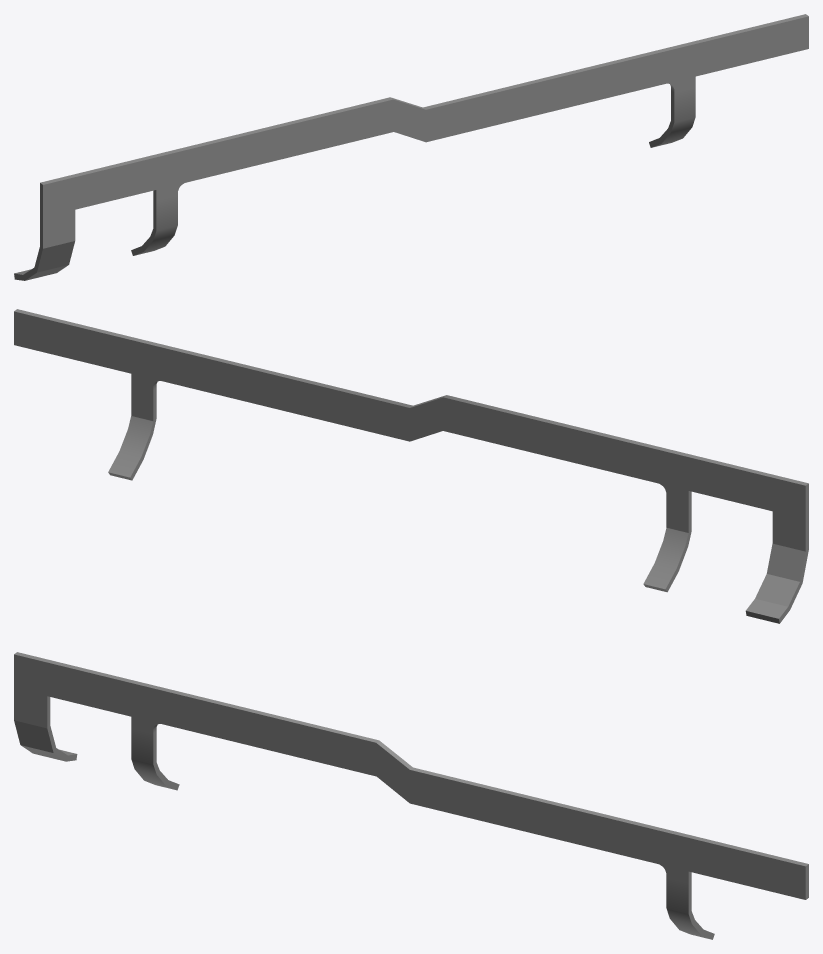
File: SM_garage_top_hinge.fbx
3 views of the same model, one above another, from view 1: azimuth 30°, elevation 25°; view 2: azimuth 150°, elevation 25°; view 3: azimuth 330°, elevation 25° (orthographic). The views are drawn at different scales.
Parts seen in each view (by area): view 1: garage_top_hinge; view 2: garage_top_hinge; view 3: garage_top_hinge.
Part boxes in pixels (box(x1,y1,x2,y2)): garage_top_hinge: box(14, 14, 808, 280); garage_top_hinge: box(14, 309, 808, 623); garage_top_hinge: box(14, 652, 808, 939).
Size of the model in its own units: 477 by 79.92 by 31.4.
